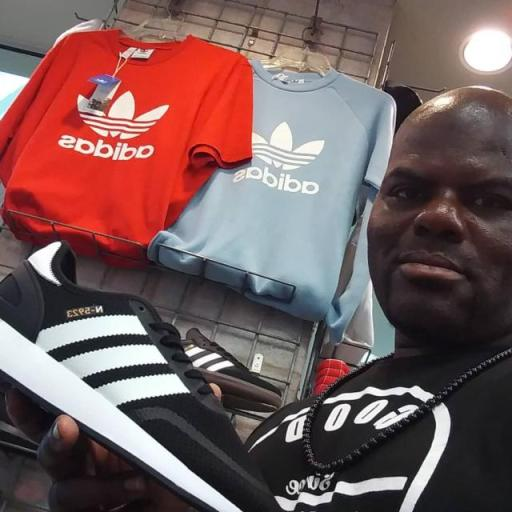Adidas: (55, 84, 172, 161)
